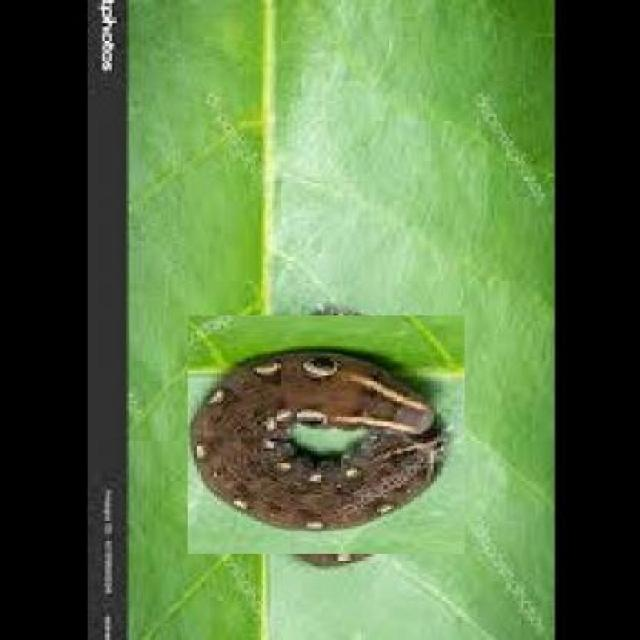Plaga: (197, 304, 457, 564)
